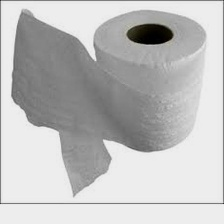tissue: (5, 2, 213, 201)
